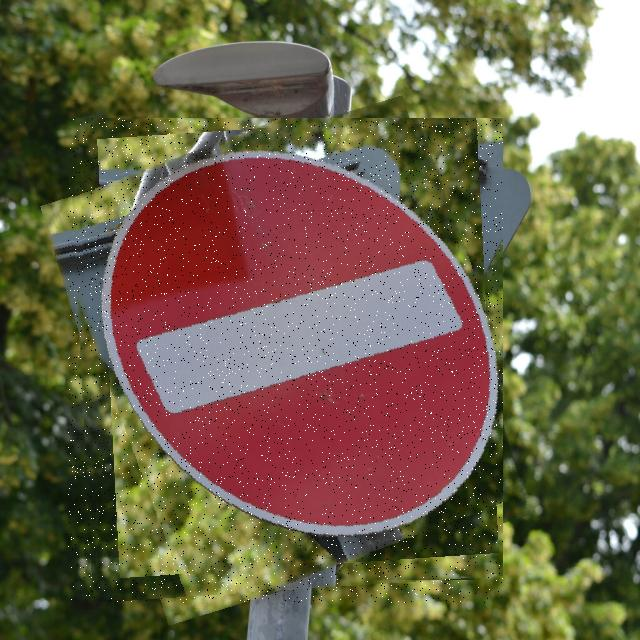no entry: (68, 118, 503, 603)
